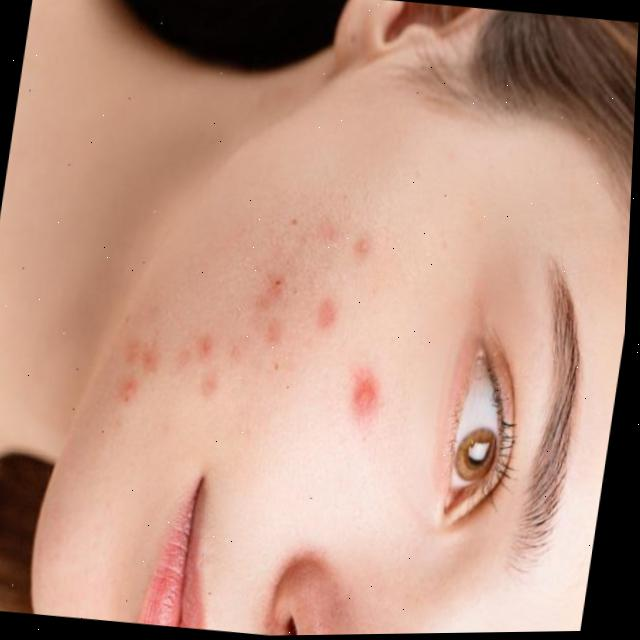Acne: (120, 201, 409, 434)
